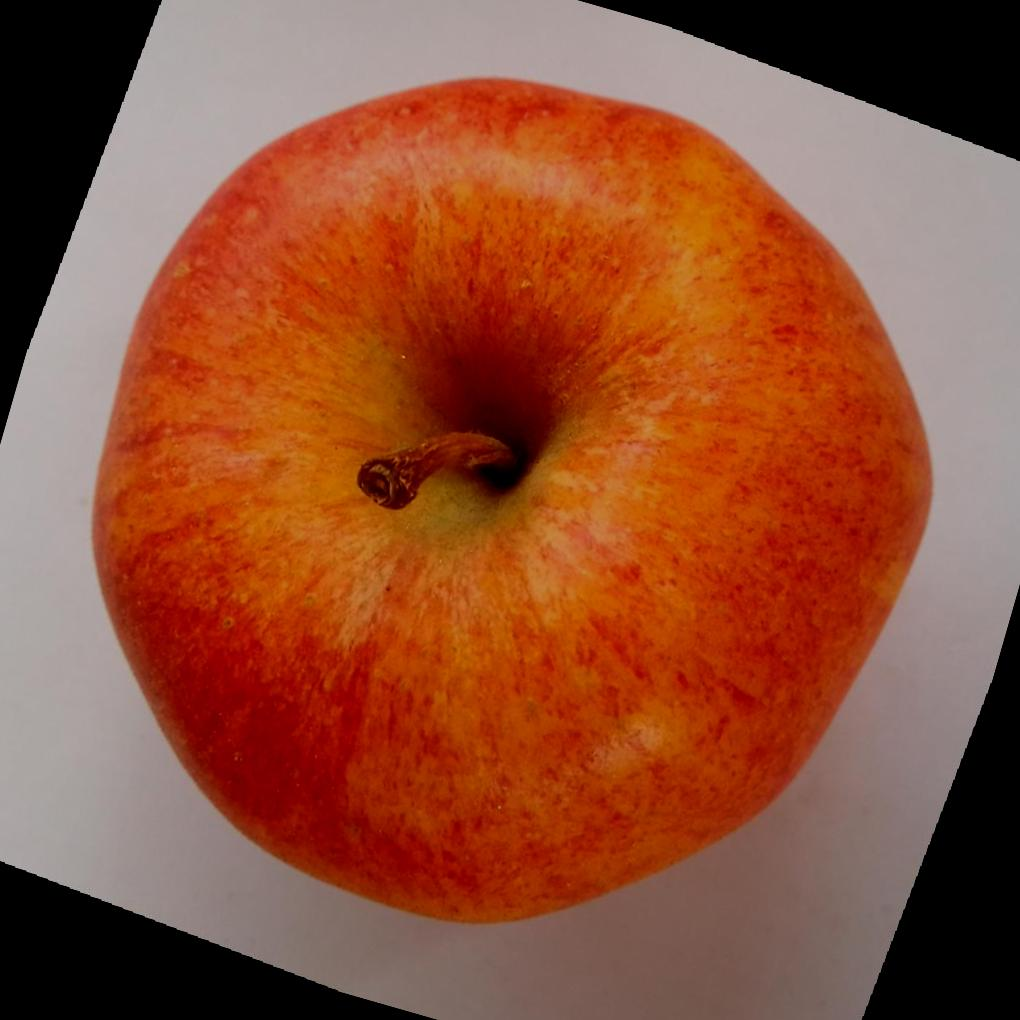FreshGuava: (91, 70, 935, 923)
